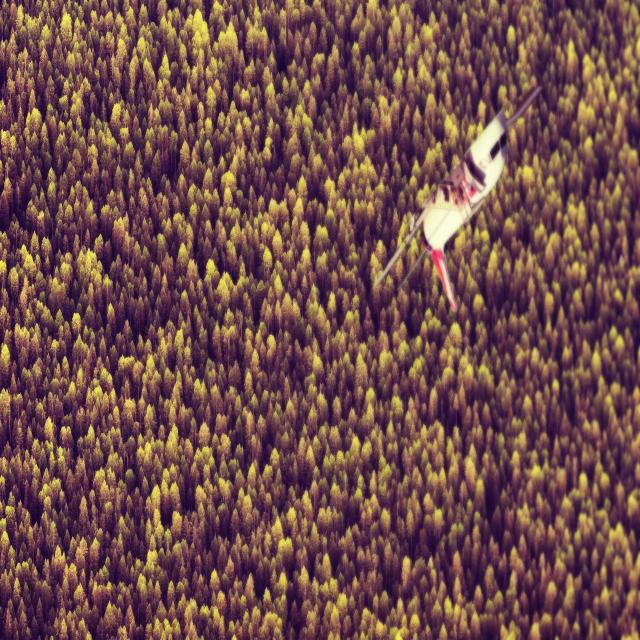airplane: (372, 83, 542, 314)
